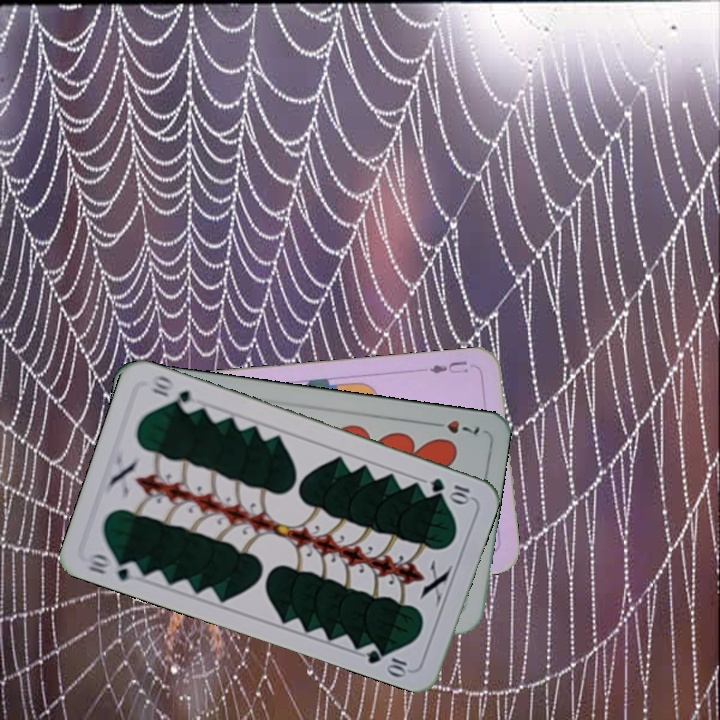EU: (425, 357, 471, 376)
G10: (83, 549, 143, 584), (426, 474, 474, 505)
H7: (425, 416, 484, 437)
